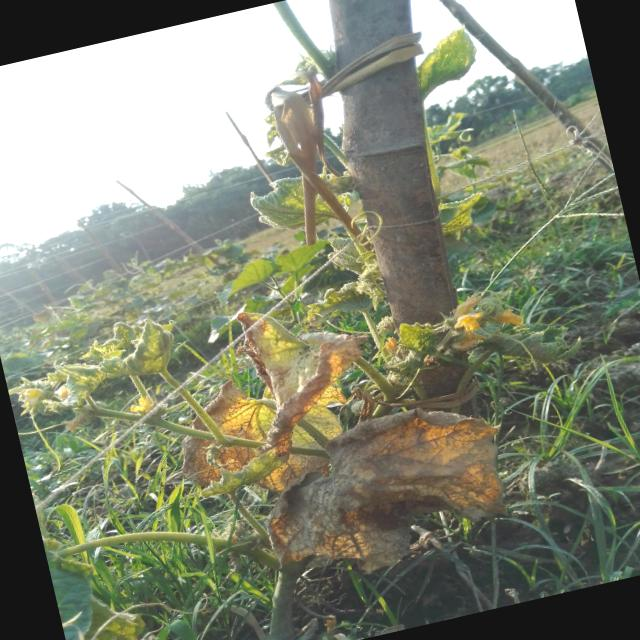cucumber_bacterial: (257, 408, 528, 621), (202, 260, 402, 488), (421, 269, 584, 406), (157, 376, 316, 507), (235, 147, 354, 255), (4, 325, 108, 436), (99, 298, 180, 400), (384, 299, 462, 399)
